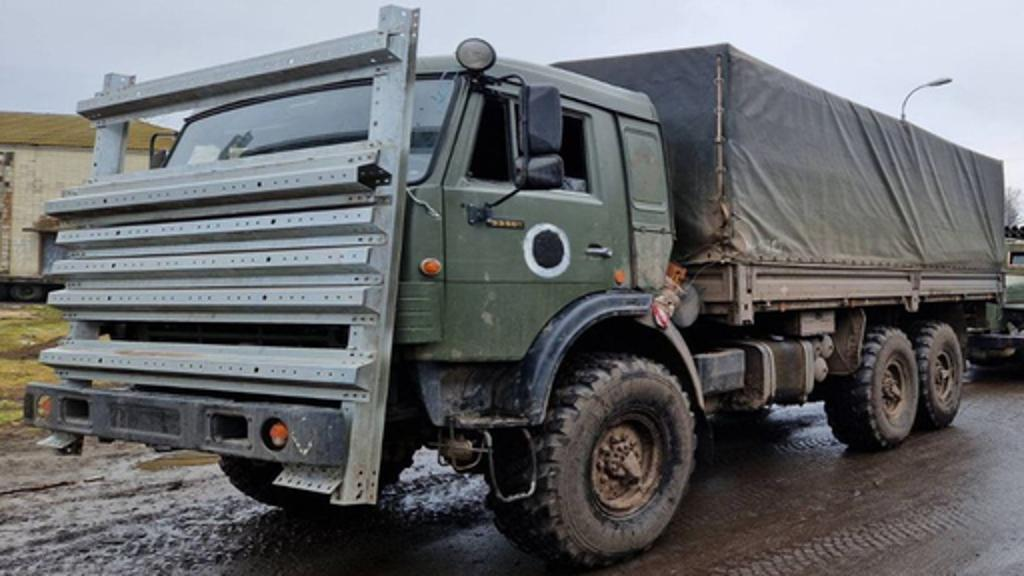TRUCK: (48, 10, 998, 574)
